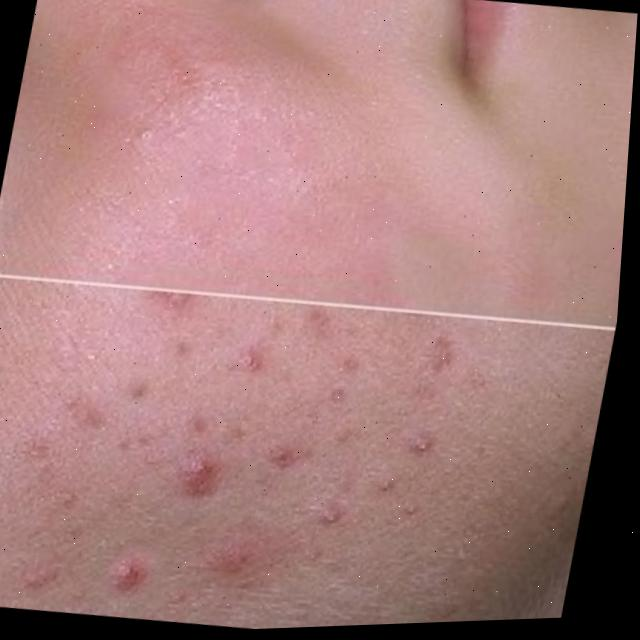Acne: (20, 297, 463, 638)
